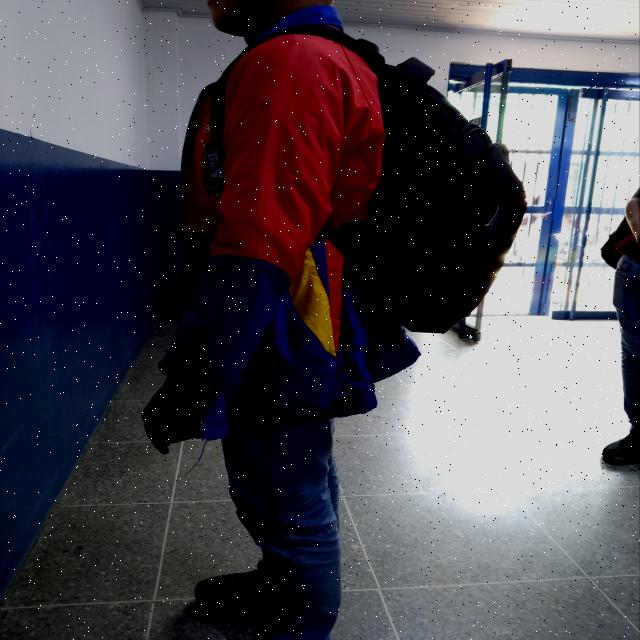chaqueta_unefa: (155, 4, 421, 442)
